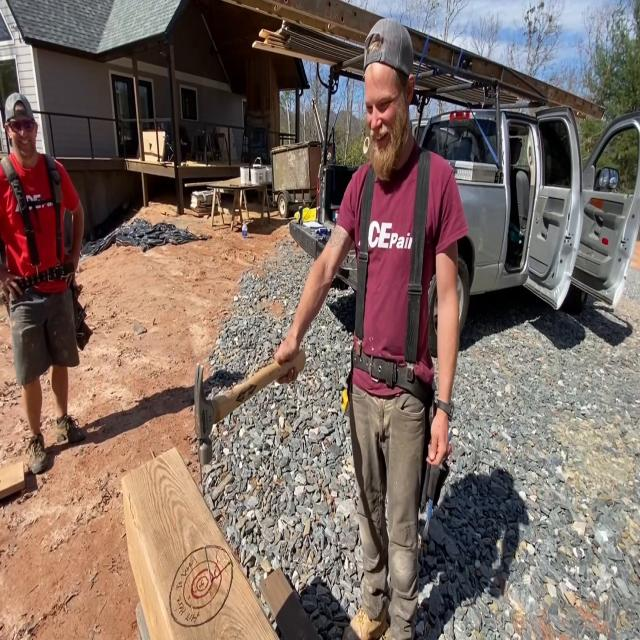hammer: (193, 343, 309, 467)
